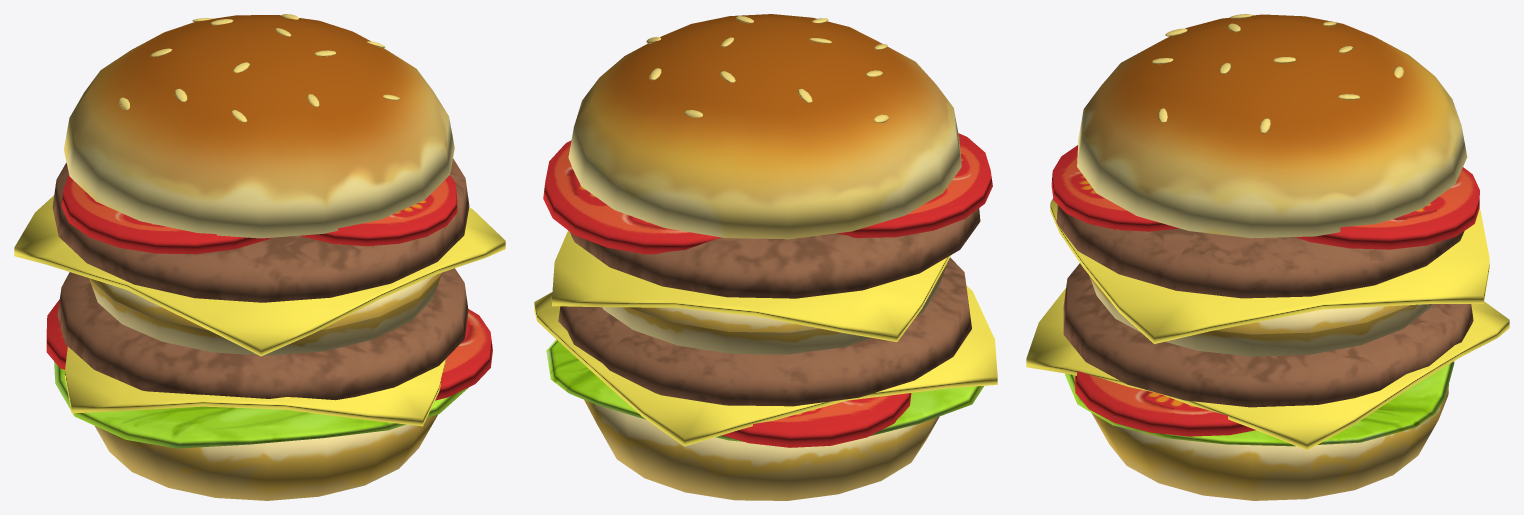
Rendered from Bigmac.fbx.
3 views of the same model, side by side, from view 1: azimuth 30°, elevation 25°; view 2: azimuth 150°, elevation 25°; view 3: azimuth 270°, elevation 25° (orthographic).
Parts seen in each view (by area): view 1: TestAssets.005; view 2: TestAssets.005; view 3: TestAssets.005.
Boxes of the visible parts, bbox=[...] form: TestAssets.005: bbox=[14, 14, 505, 500]; TestAssets.005: bbox=[534, 14, 997, 500]; TestAssets.005: bbox=[1026, 14, 1509, 500].
Bounding box in the file's own units: 368 × 326 × 366.
